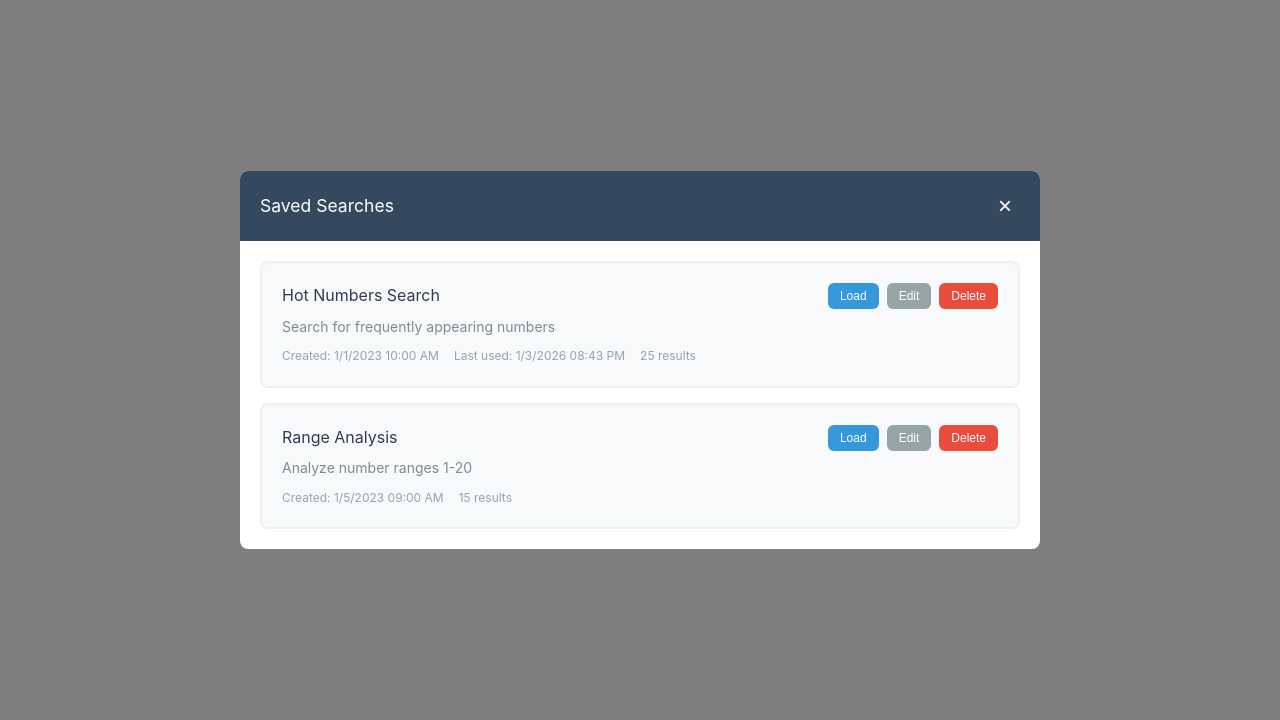
Scenario: SavedSearches › shows loading state on Load button during loading
The image size is (1280, 720).
Click the button "Load" in the row of "Hot Numbers Search" at (853, 296), box x1=828 y1=283 x2=879 y2=309
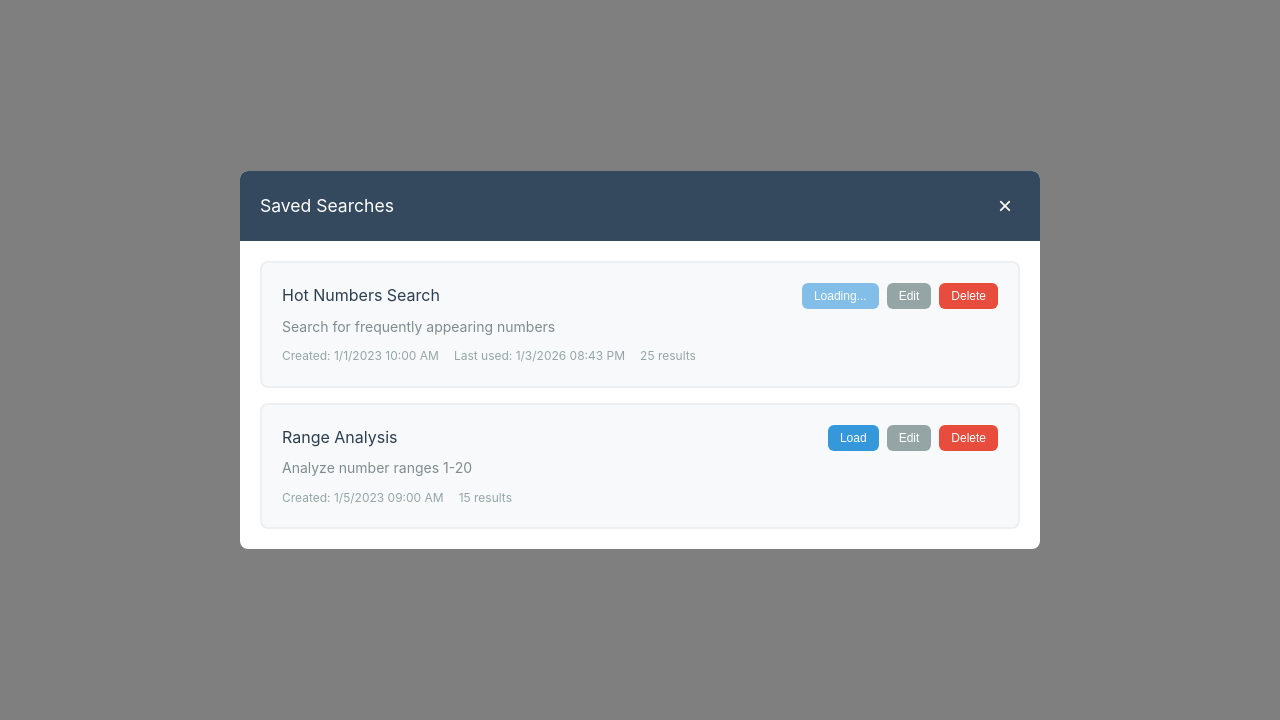
Expected: the button "Loading..." is shown, x1=802 y1=283 x2=879 y2=309
Expected: the button "Loading..." is disabled, x1=802 y1=283 x2=879 y2=309
